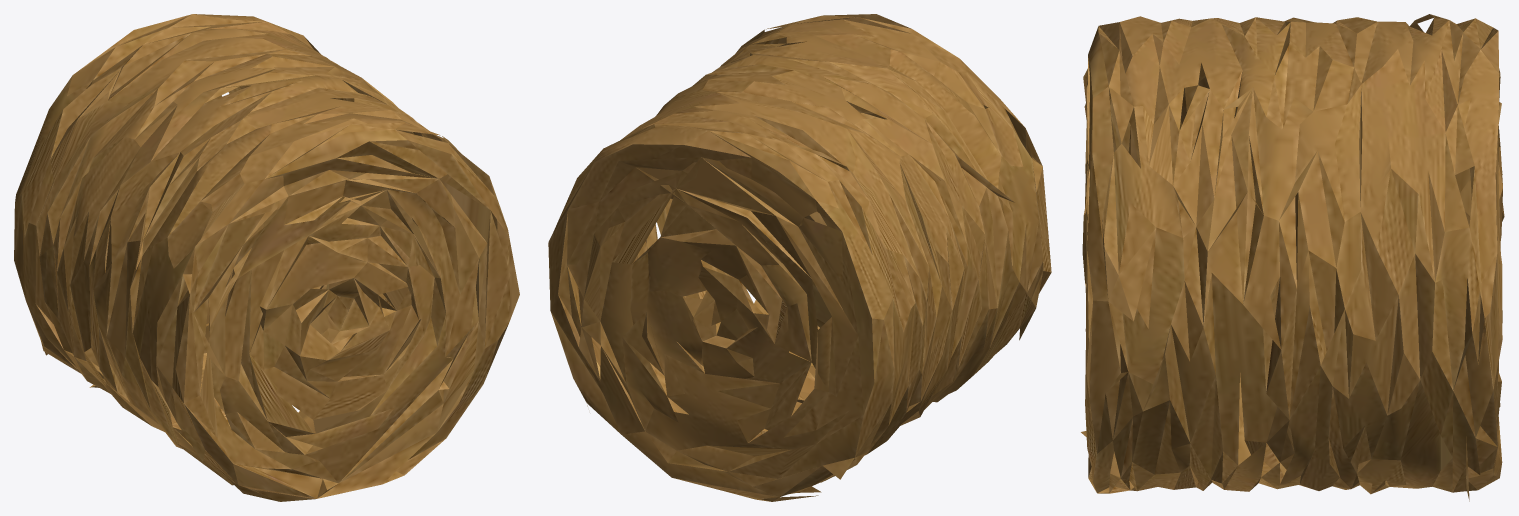
Rendered from haybale.glb.
3 views of the same model, side by side, from view 1: azimuth 30°, elevation 25°; view 2: azimuth 150°, elevation 25°; view 3: azimuth 270°, elevation 25° (orthographic). The views are drawn at different scales.
Size of the model in its own units: 1.74 by 1.71 by 1.54.
Materials: 1 (1 with a texture image).
